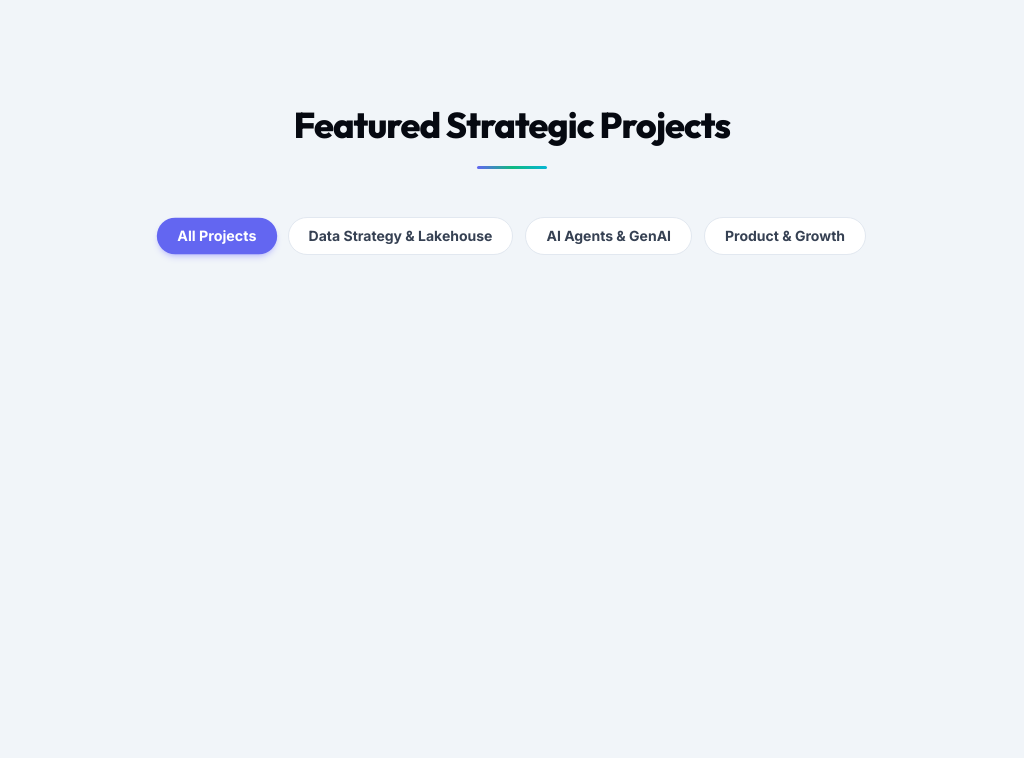
Scenario: Projects component › renders project list and filters by category
Filter by AI category
Click the button "AI Agents & GenAI" at (609, 236), box x1=525 y1=217 x2=692 y2=255
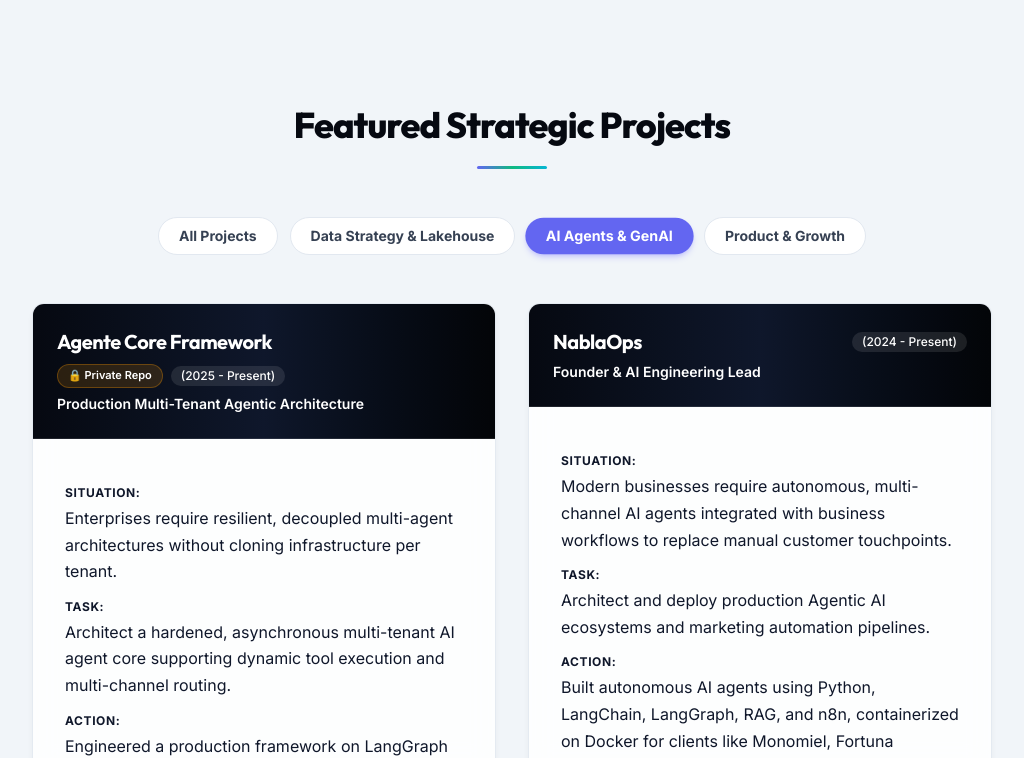
Now the heading "NablaOps" is shown, box x1=553 y1=328 x2=642 y2=356
